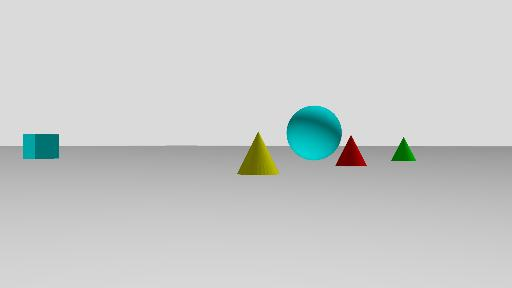green_cone: (390, 137, 417, 162)
red_cone: (335, 135, 367, 167)
yellow_cone: (237, 131, 280, 175)
